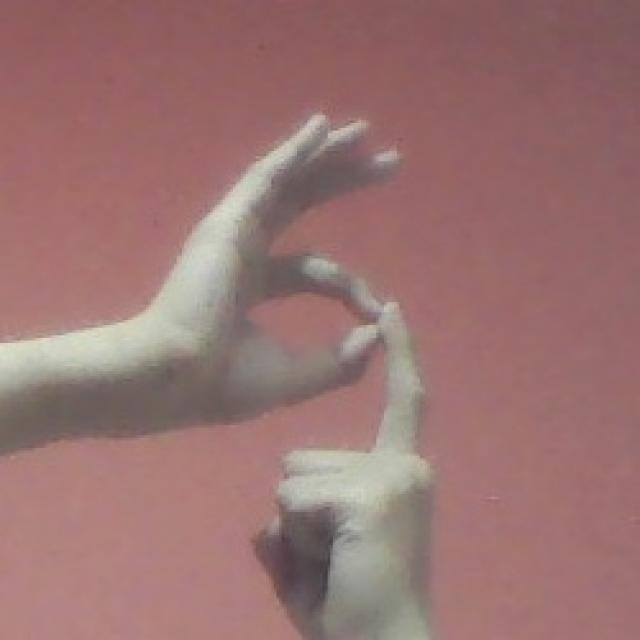Alphabet-P: (168, 104, 462, 640)
